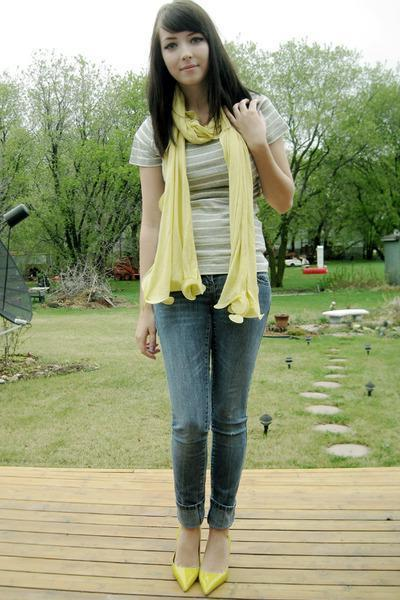short sleeve shirt: (126, 86, 290, 277)
sweater: (152, 270, 272, 528)
